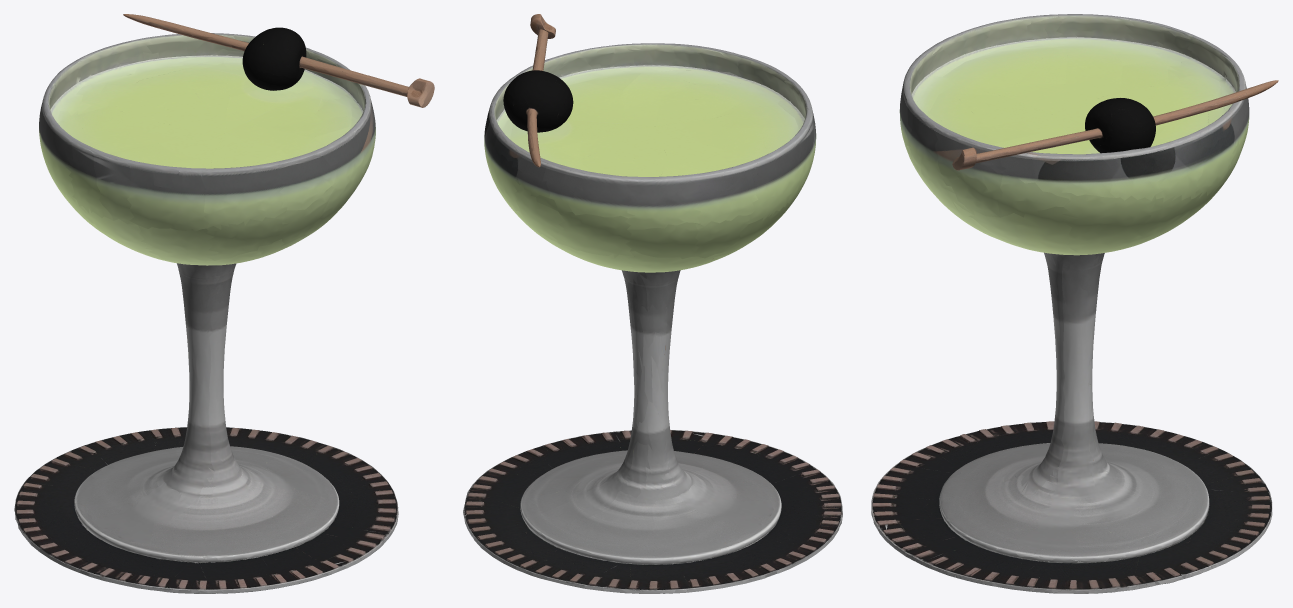
The model's file is last-word.glb.
The picture shows the model from 3 angles, left to right: view 1: azimuth 30°, elevation 25°; view 2: azimuth 150°, elevation 25°; view 3: azimuth 270°, elevation 25°; orthographic projection. The views are drawn at different scales.
Size of the model in its own units: 1.55 by 1.9 by 1.54.
Materials: 1 (1 with a texture image).
